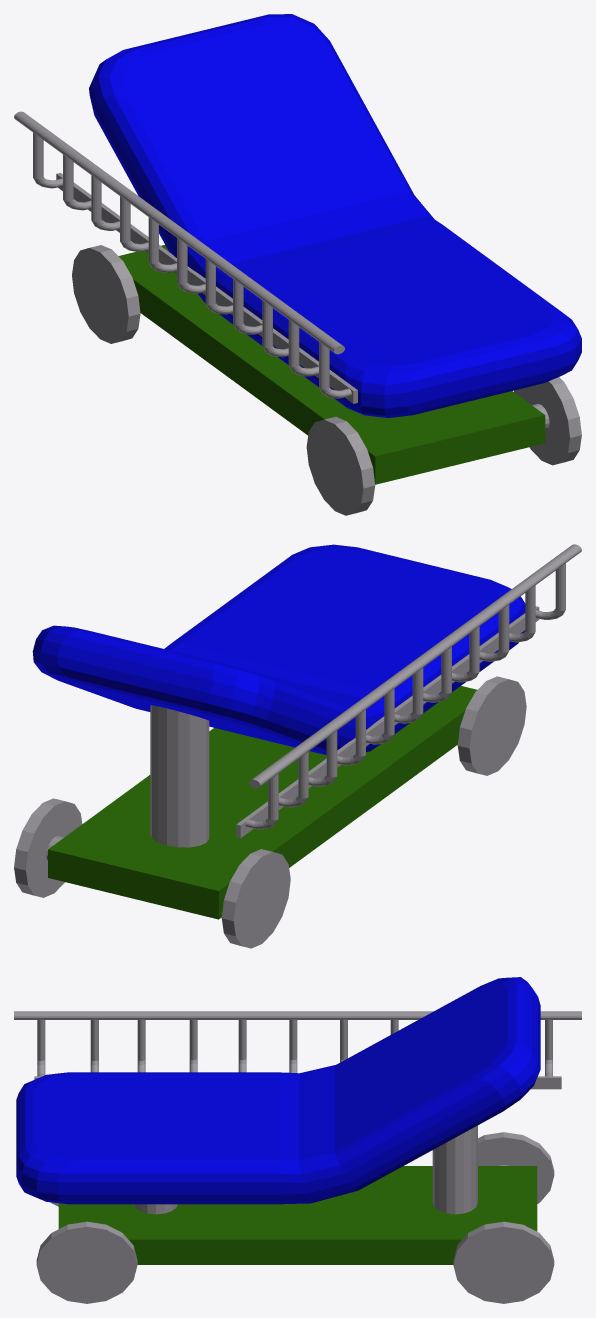
The model's file is Stretcher-Raised Head.fbx.
3 views of the same model, one above another, from view 1: azimuth 30°, elevation 25°; view 2: azimuth 150°, elevation 25°; view 3: azimuth 270°, elevation 25° (orthographic). The views are drawn at different scales.
Parts seen in each view (by area): view 1: Stretcher-Raised Head; view 2: Stretcher-Raised Head; view 3: Stretcher-Raised Head.
Boxes of the visible parts, left/top/right/bottom form: Stretcher-Raised Head: left=14, top=14, right=581, bottom=515; Stretcher-Raised Head: left=14, top=544, right=581, bottom=948; Stretcher-Raised Head: left=14, top=977, right=581, bottom=1303.
Size of the model in its own units: 191 by 187 by 396.
